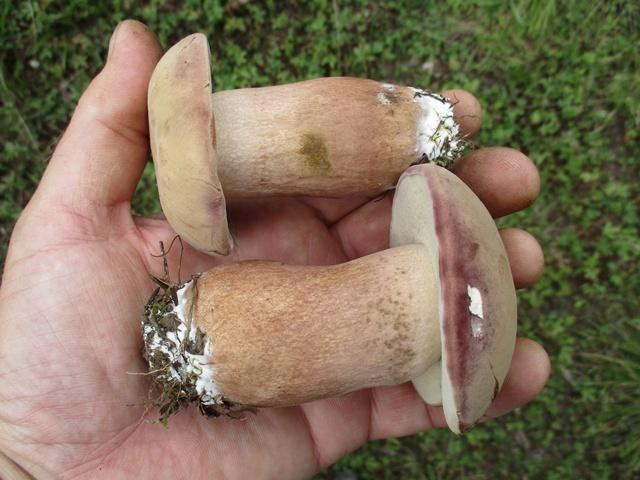Non-edible Mushroom: (125, 20, 528, 446)
